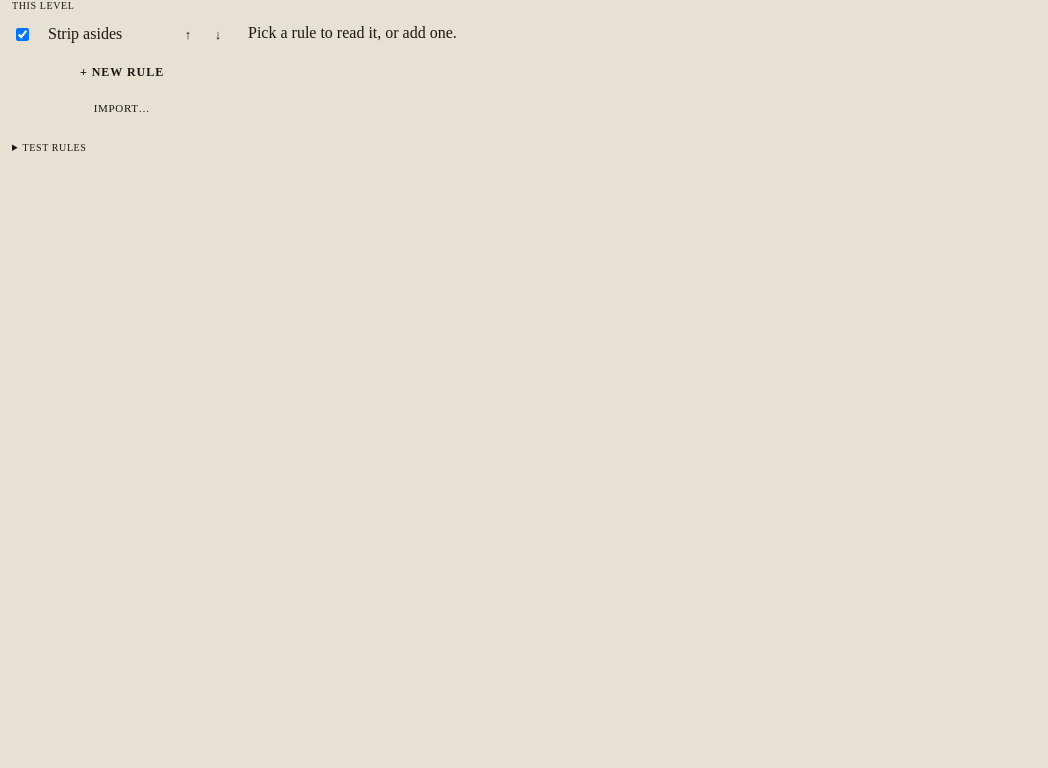
Test: Edit reveals the form
Click the button "Strip asides" at (103, 34), box [38,17,168,51]
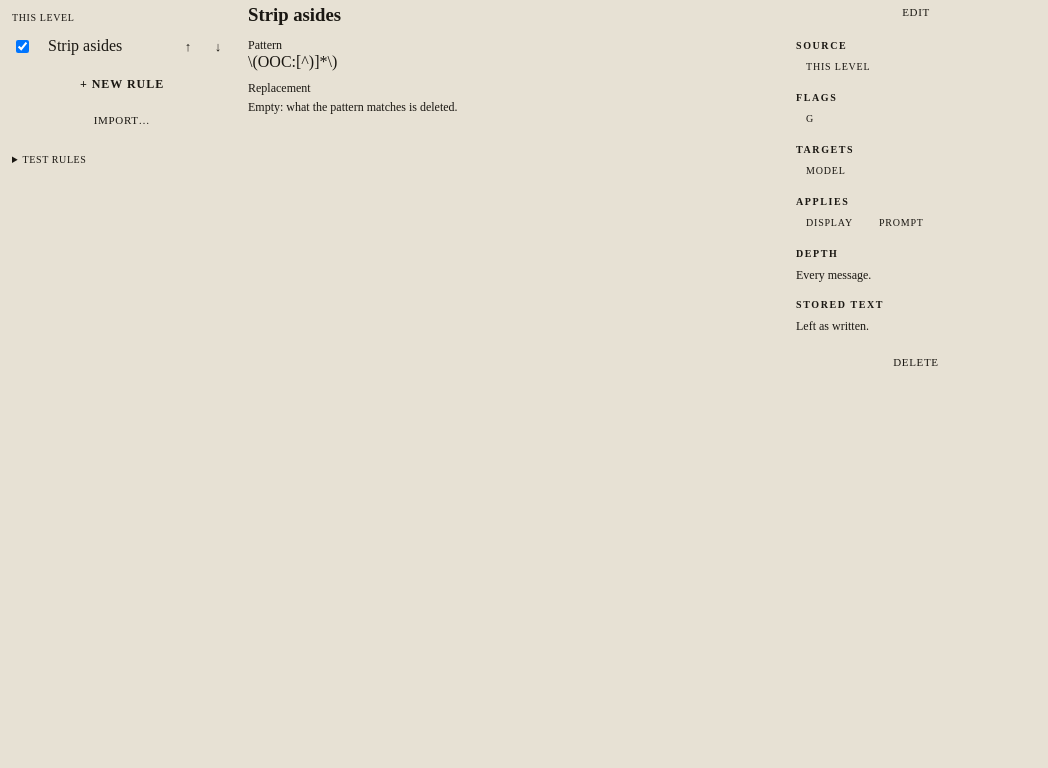
Click the button "Edit" at (916, 12), box [796,0,1036,24]
(page scrolled)
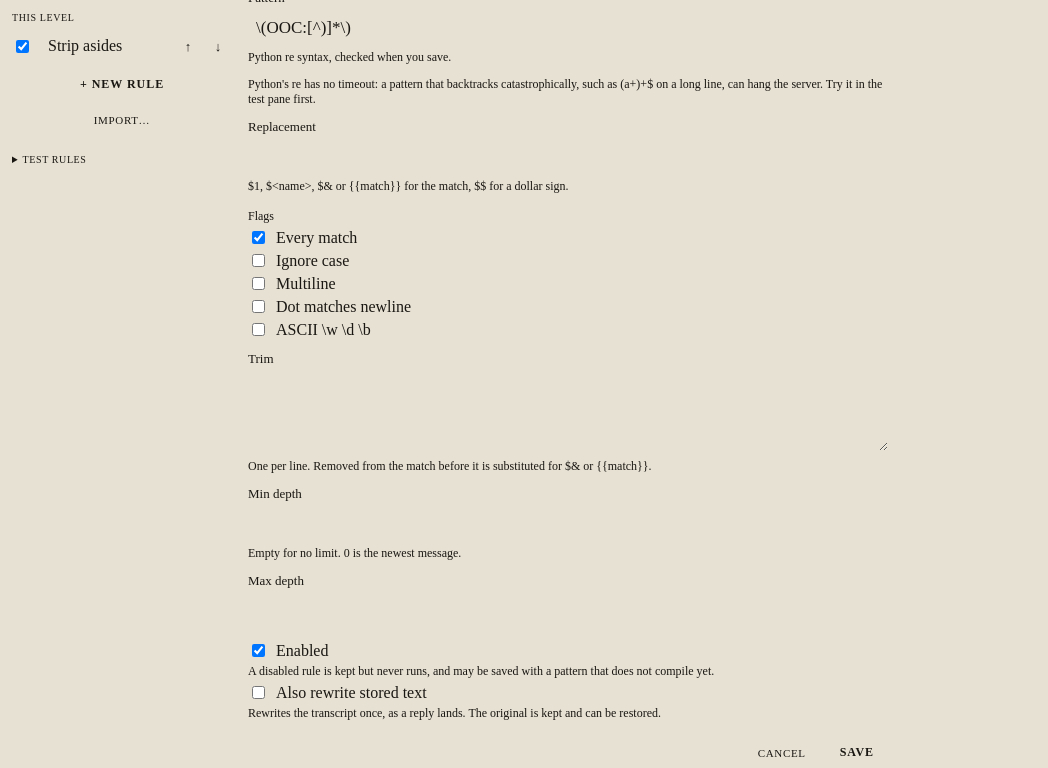
Check: the field labelled "Pattern" holds "\\(OOC:[^)]*\\)", box [248,10,888,46]
Check: the button "Save" is shown, box [826,737,888,767]
